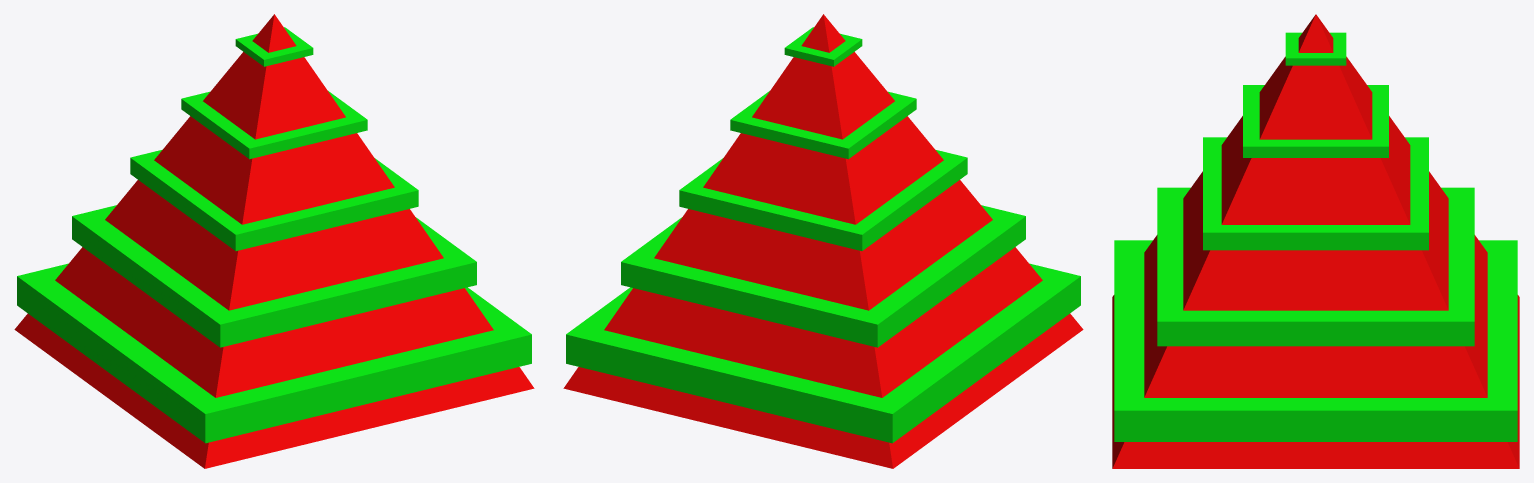
The model's file is SM_SmallPyramid.FBX.
The picture shows the model from 3 angles, left to right: view 1: azimuth 30°, elevation 25°; view 2: azimuth 150°, elevation 25°; view 3: azimuth 270°, elevation 25°; orthographic projection. The views are drawn at different scales.
Parts seen in each view (by area): view 1: Pyramid002; view 2: Pyramid002; view 3: Pyramid002.
Boxes of the visible parts, x1=… form: Pyramid002: x1=14, y1=14, x2=534, y2=468; Pyramid002: x1=563, y1=14, x2=1083, y2=468; Pyramid002: x1=1112, y1=14, x2=1519, y2=468.
Size of the model in its own units: 40 by 40 by 40.
